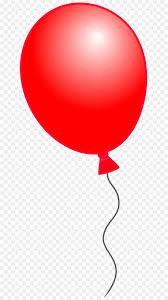red: (18, 3, 146, 176)
